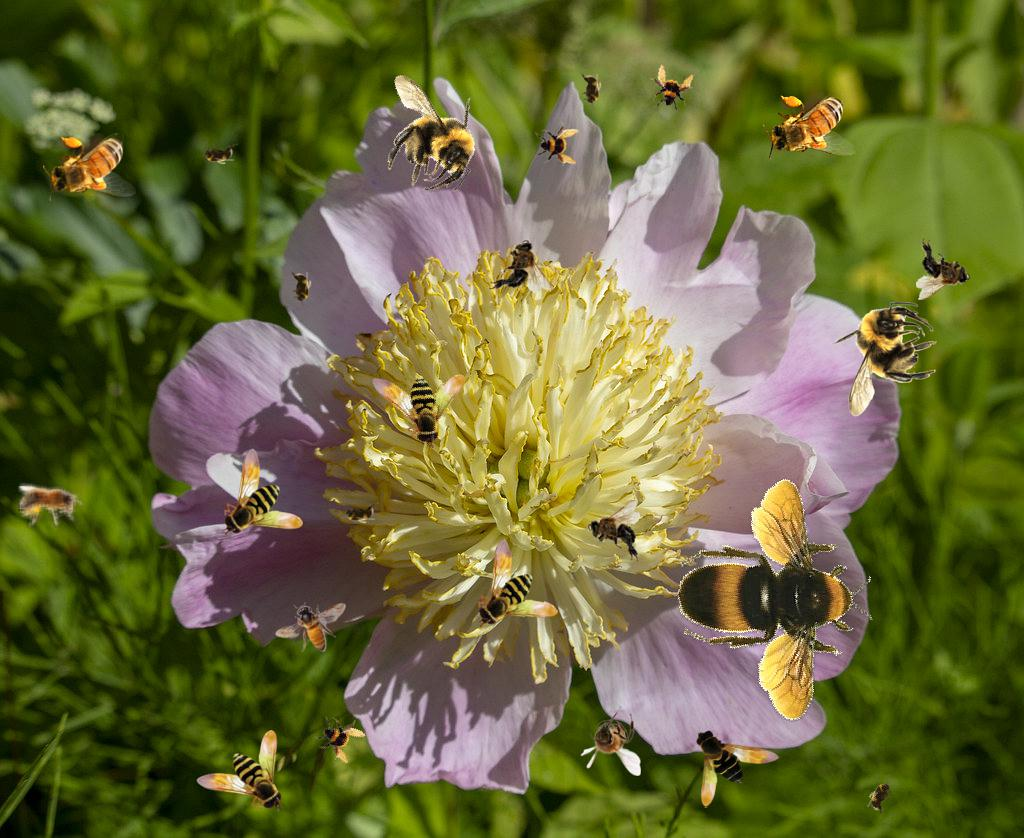Bee: (642, 464, 914, 749), (349, 55, 506, 210), (356, 336, 474, 452), (830, 302, 937, 417), (471, 535, 559, 629), (693, 726, 781, 808), (221, 448, 303, 536), (196, 730, 284, 812), (763, 92, 856, 160), (43, 133, 136, 201), (580, 706, 641, 776), (915, 237, 972, 303), (586, 500, 643, 564), (310, 707, 370, 767), (16, 479, 86, 530), (275, 602, 346, 652), (489, 240, 551, 293), (643, 62, 697, 116), (535, 122, 579, 166), (861, 773, 901, 819), (198, 143, 238, 165), (339, 502, 379, 524), (580, 70, 602, 110), (290, 268, 312, 308)
